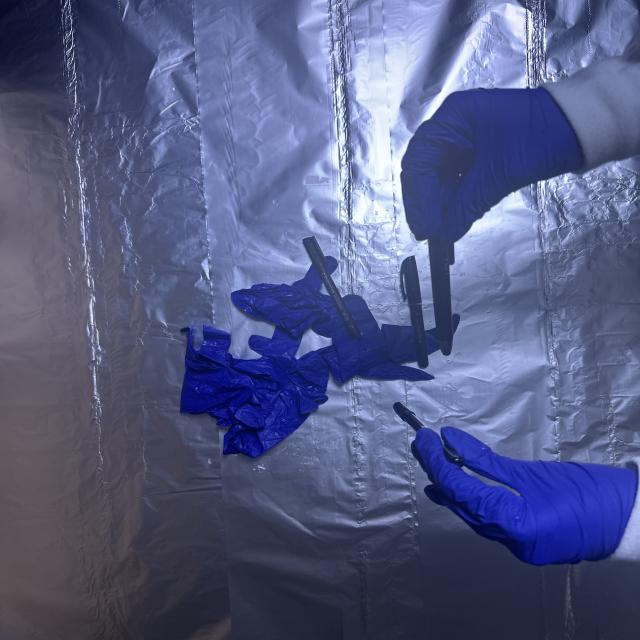gloves_contaminated: (412, 428, 637, 566), (401, 88, 584, 244)
